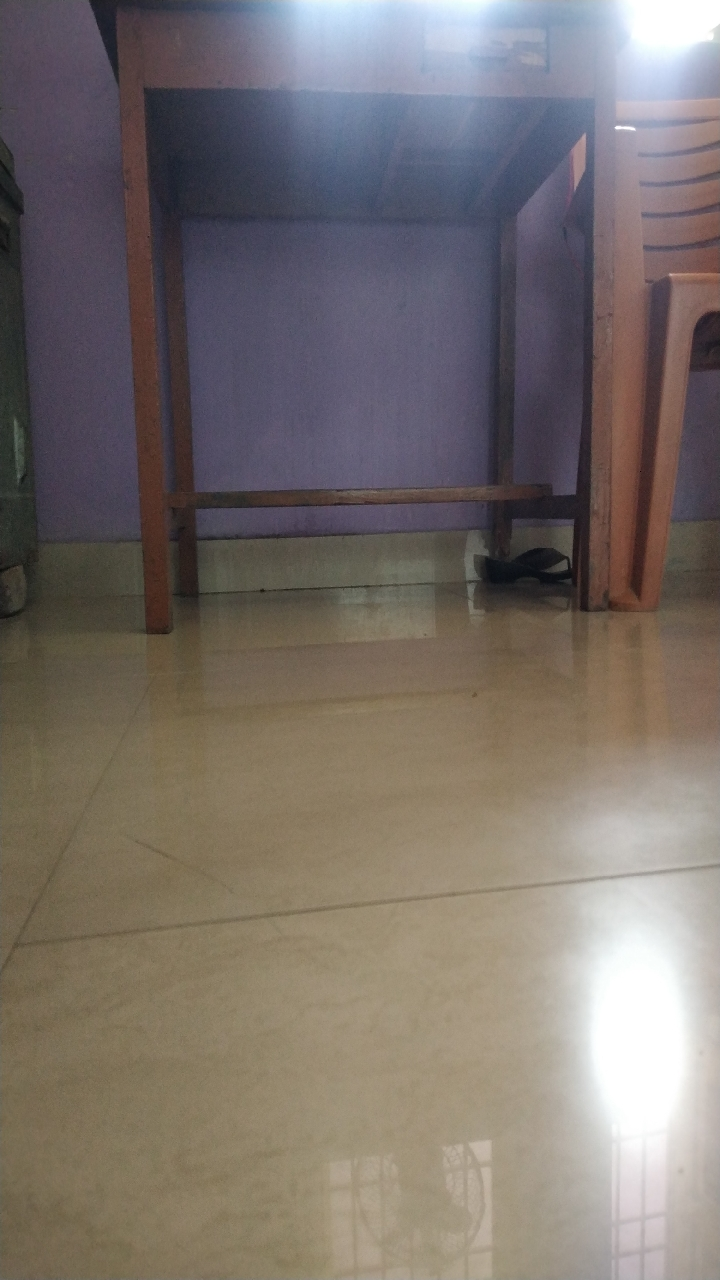Furnitures: (121, 311, 617, 648), (620, 264, 720, 619)
